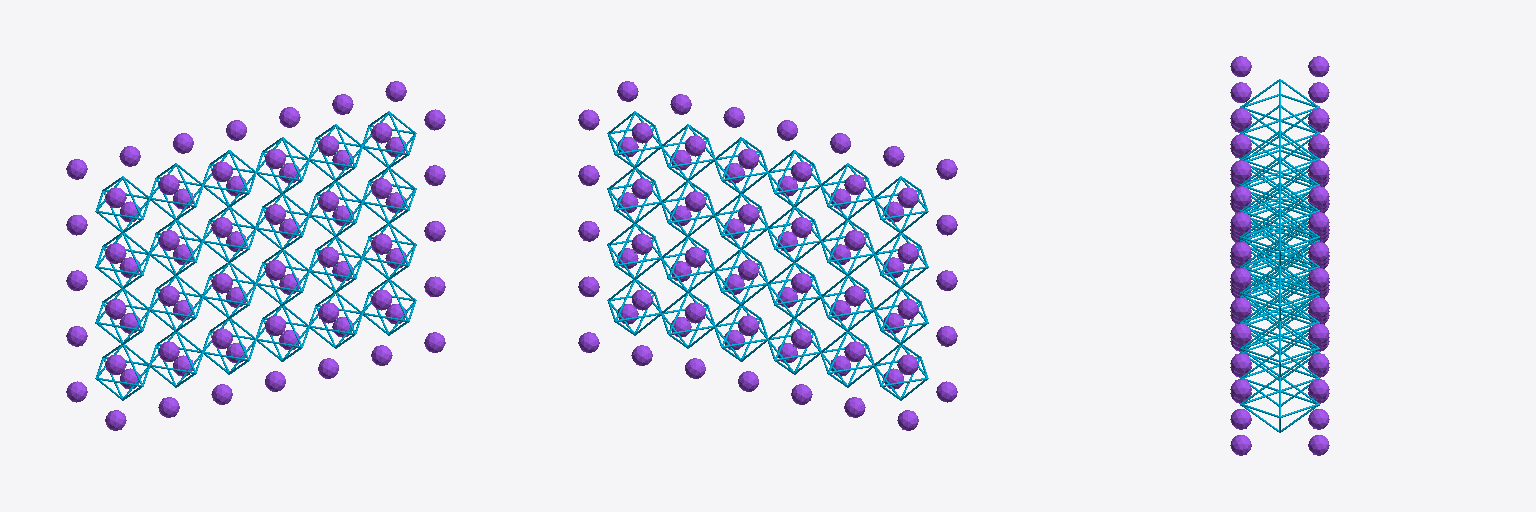
File: NaNbO2S.obj
The picture shows the model from 3 angles: view 1: azimuth 30°, elevation 25°; view 2: azimuth 150°, elevation 25°; view 3: azimuth 270°, elevation 25°; orthographic projection.
Parts seen in each view (by area): view 1: ball_Na_pv; view 2: ball_Na_pv; view 3: ball_Na_pv.
Part boxes in pixels (x1,y1,x2,y2): ball_Na_pv: (66, 81, 445, 430); ball_Na_pv: (578, 81, 957, 430); ball_Na_pv: (1230, 56, 1329, 455).
Size of the model in its own units: 25.26 by 17.31 by 6.44.